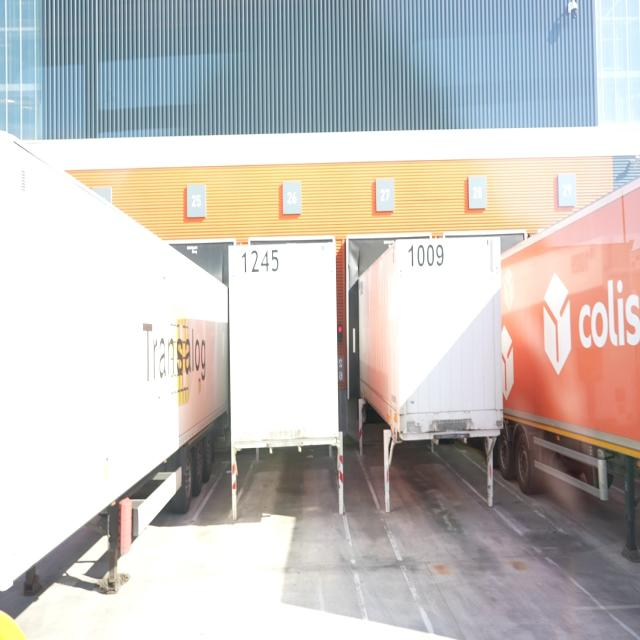Code: (239, 245, 283, 278), (408, 241, 444, 267)
